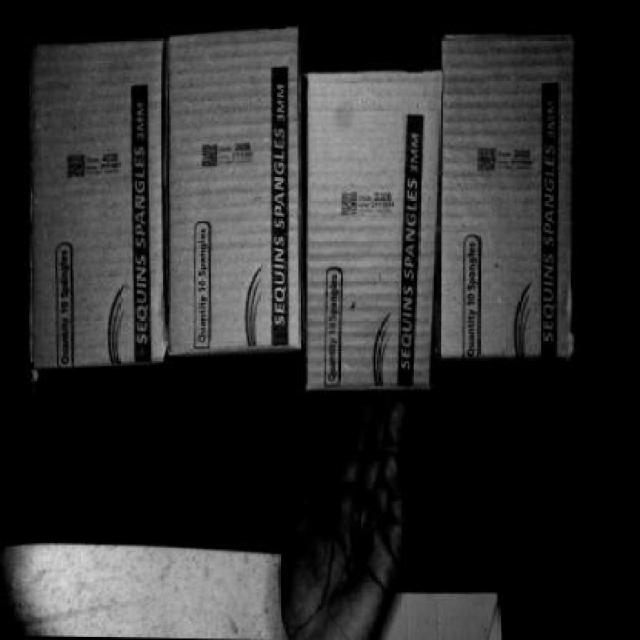cardboxes: (167, 34, 313, 351), (29, 46, 174, 352), (440, 41, 574, 362), (306, 77, 434, 385)
